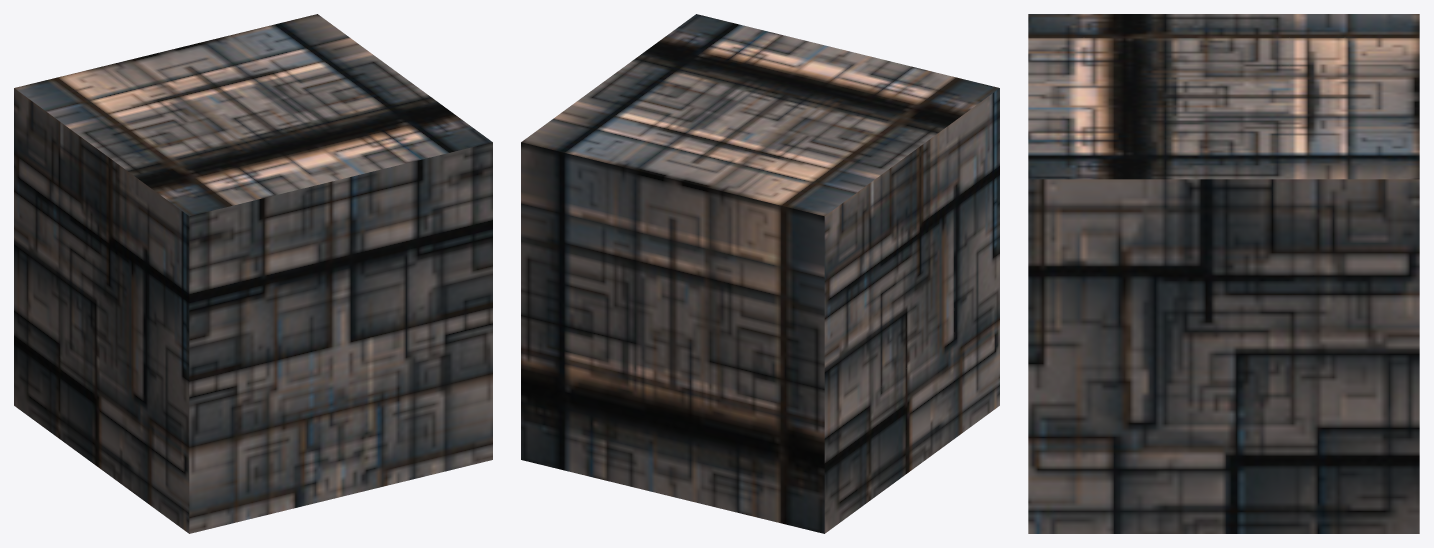
The model's file is small_buildingbox.fbx.
3 views of the same model, side by side, from view 1: azimuth 30°, elevation 25°; view 2: azimuth 150°, elevation 25°; view 3: azimuth 270°, elevation 25° (orthographic). The views are drawn at different scales.
Parts seen in each view (by area): view 1: pCube7; view 2: pCube7; view 3: pCube7.
Boxes of the visible parts, x1,y1,x2,y2 form: pCube7: (14, 14, 492, 533); pCube7: (521, 14, 999, 533); pCube7: (1028, 14, 1419, 533).
Bounding box in the file's own units: 6 × 6 × 6.
